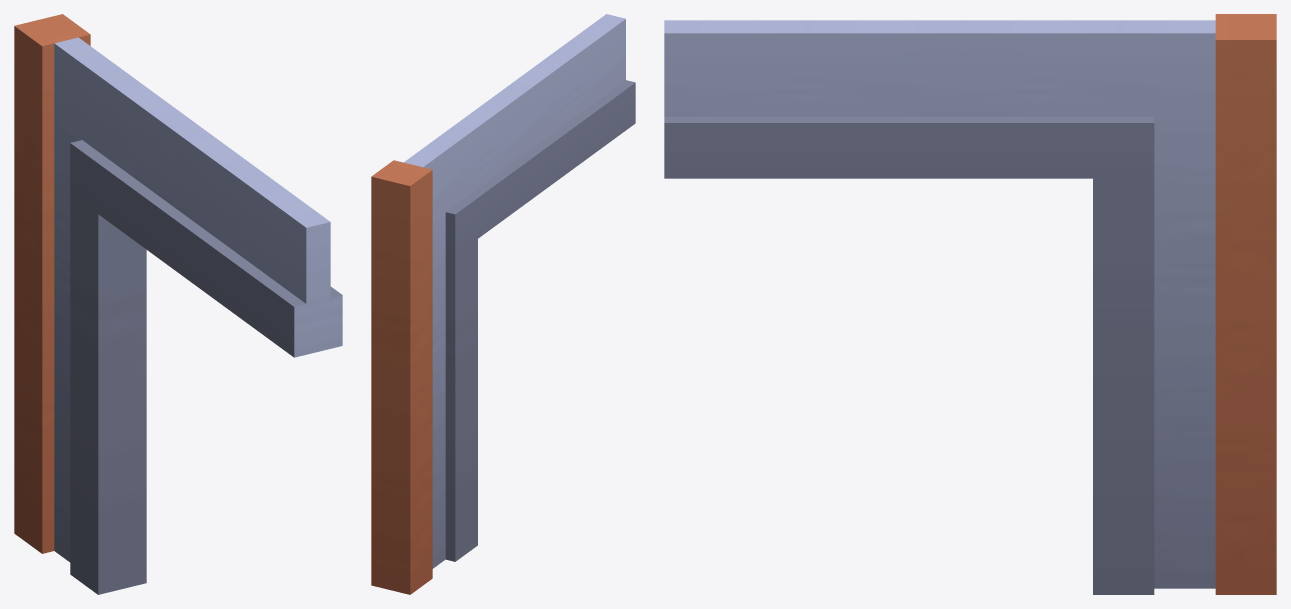
The model's file is wallDoorwaySquareWide.fbx.
The picture shows the model from 3 angles, left to right: view 1: azimuth 30°, elevation 25°; view 2: azimuth 150°, elevation 25°; view 3: azimuth 270°, elevation 25°; orthographic projection. The views are drawn at different scales.
Visible parts, largest first — view 1: wallDoorwaySquareWide; view 2: wallDoorwaySquareWide; view 3: wallDoorwaySquareWide.
Boxes of the visible parts, bbox=[...] form: wallDoorwaySquareWide: bbox=[14, 14, 342, 594]; wallDoorwaySquareWide: bbox=[371, 14, 635, 594]; wallDoorwaySquareWide: bbox=[664, 14, 1276, 594].
Size of the model in its own units: 0.1 by 1 by 1.
